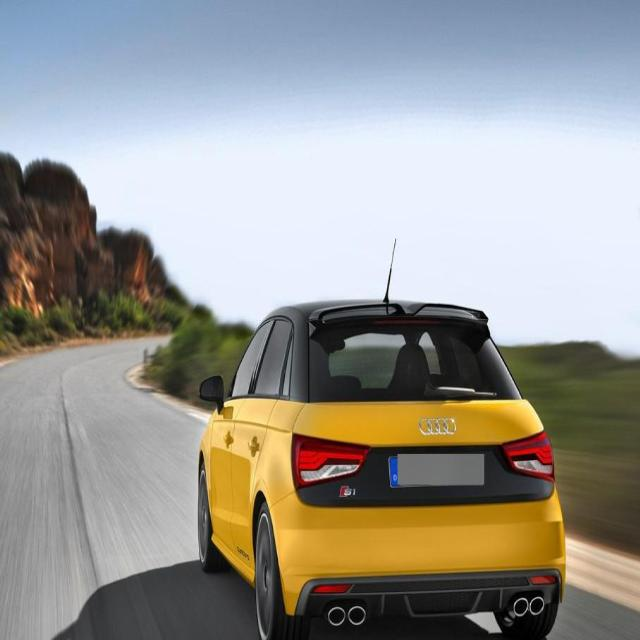back_glass: (304, 317, 522, 408)
back_left_side_light: (291, 429, 370, 496)
back_right_side_light: (499, 428, 557, 482)
front_left_side_door: (210, 318, 267, 589)
front_left_side_mirror: (199, 369, 228, 407)
rear_bumper: (269, 490, 567, 624)
